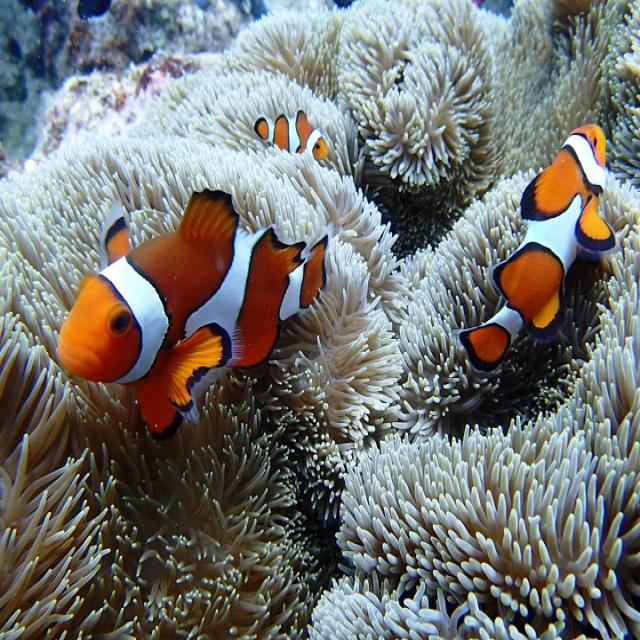ClownFish: (63, 185, 330, 440), (460, 120, 620, 367), (251, 105, 331, 163)
